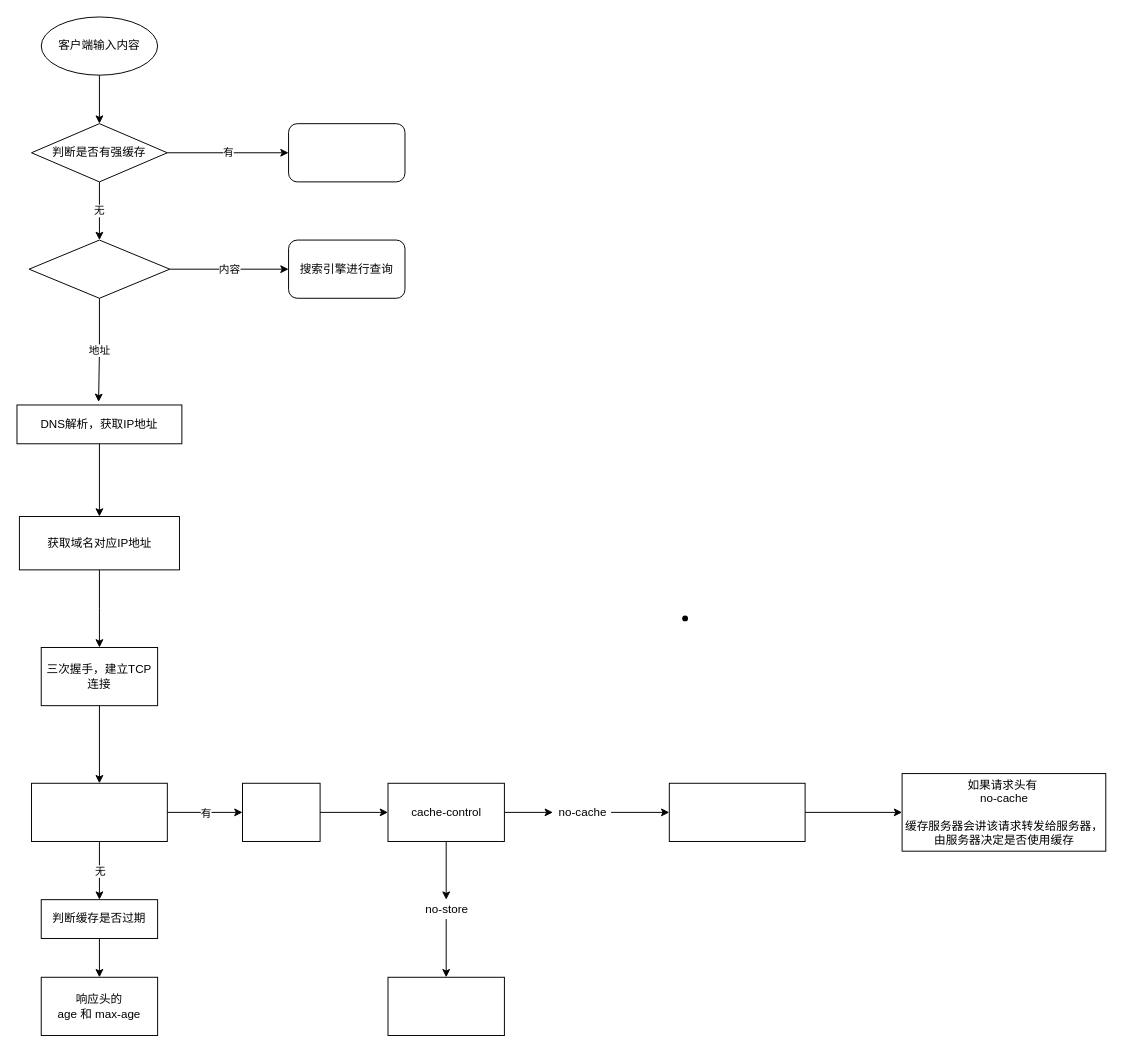
Image size: 1123x1052. Some labels were removed from this diagram. Here are the shapes that lost their labels. From the top down, the box of each, then its label:
(288, 123, 405, 182): 使用强缓存内容
(28, 239, 170, 298): 是地址还是查询内容
(31, 782, 167, 841): cache-control: 字段有 no-cache 或 no-store
(242, 782, 320, 841): 协商缓存
(668, 782, 805, 841): 将相应头的Etag 字段放在请求头的if-match或 if-none-match 发起请求
